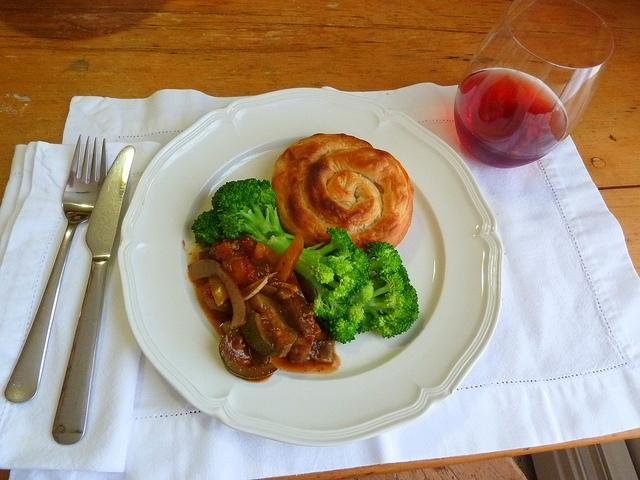broccoli: (267, 226, 419, 344), (212, 178, 294, 256), (191, 208, 225, 248)
